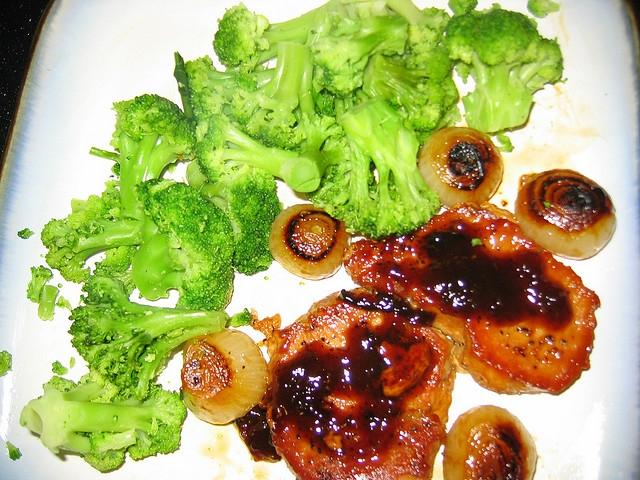broccoli: (68, 272, 230, 404), (19, 364, 188, 473), (441, 9, 568, 138), (332, 96, 440, 240), (132, 177, 235, 311), (41, 194, 146, 284), (201, 164, 284, 276), (230, 42, 315, 150), (310, 12, 408, 97), (212, 2, 325, 74), (362, 48, 458, 132), (196, 114, 300, 183), (125, 94, 197, 185), (386, 0, 451, 56), (188, 55, 241, 120), (404, 43, 445, 69)
onion: (514, 168, 616, 260), (180, 329, 266, 424), (442, 404, 538, 480), (418, 126, 504, 208), (268, 204, 354, 280)
